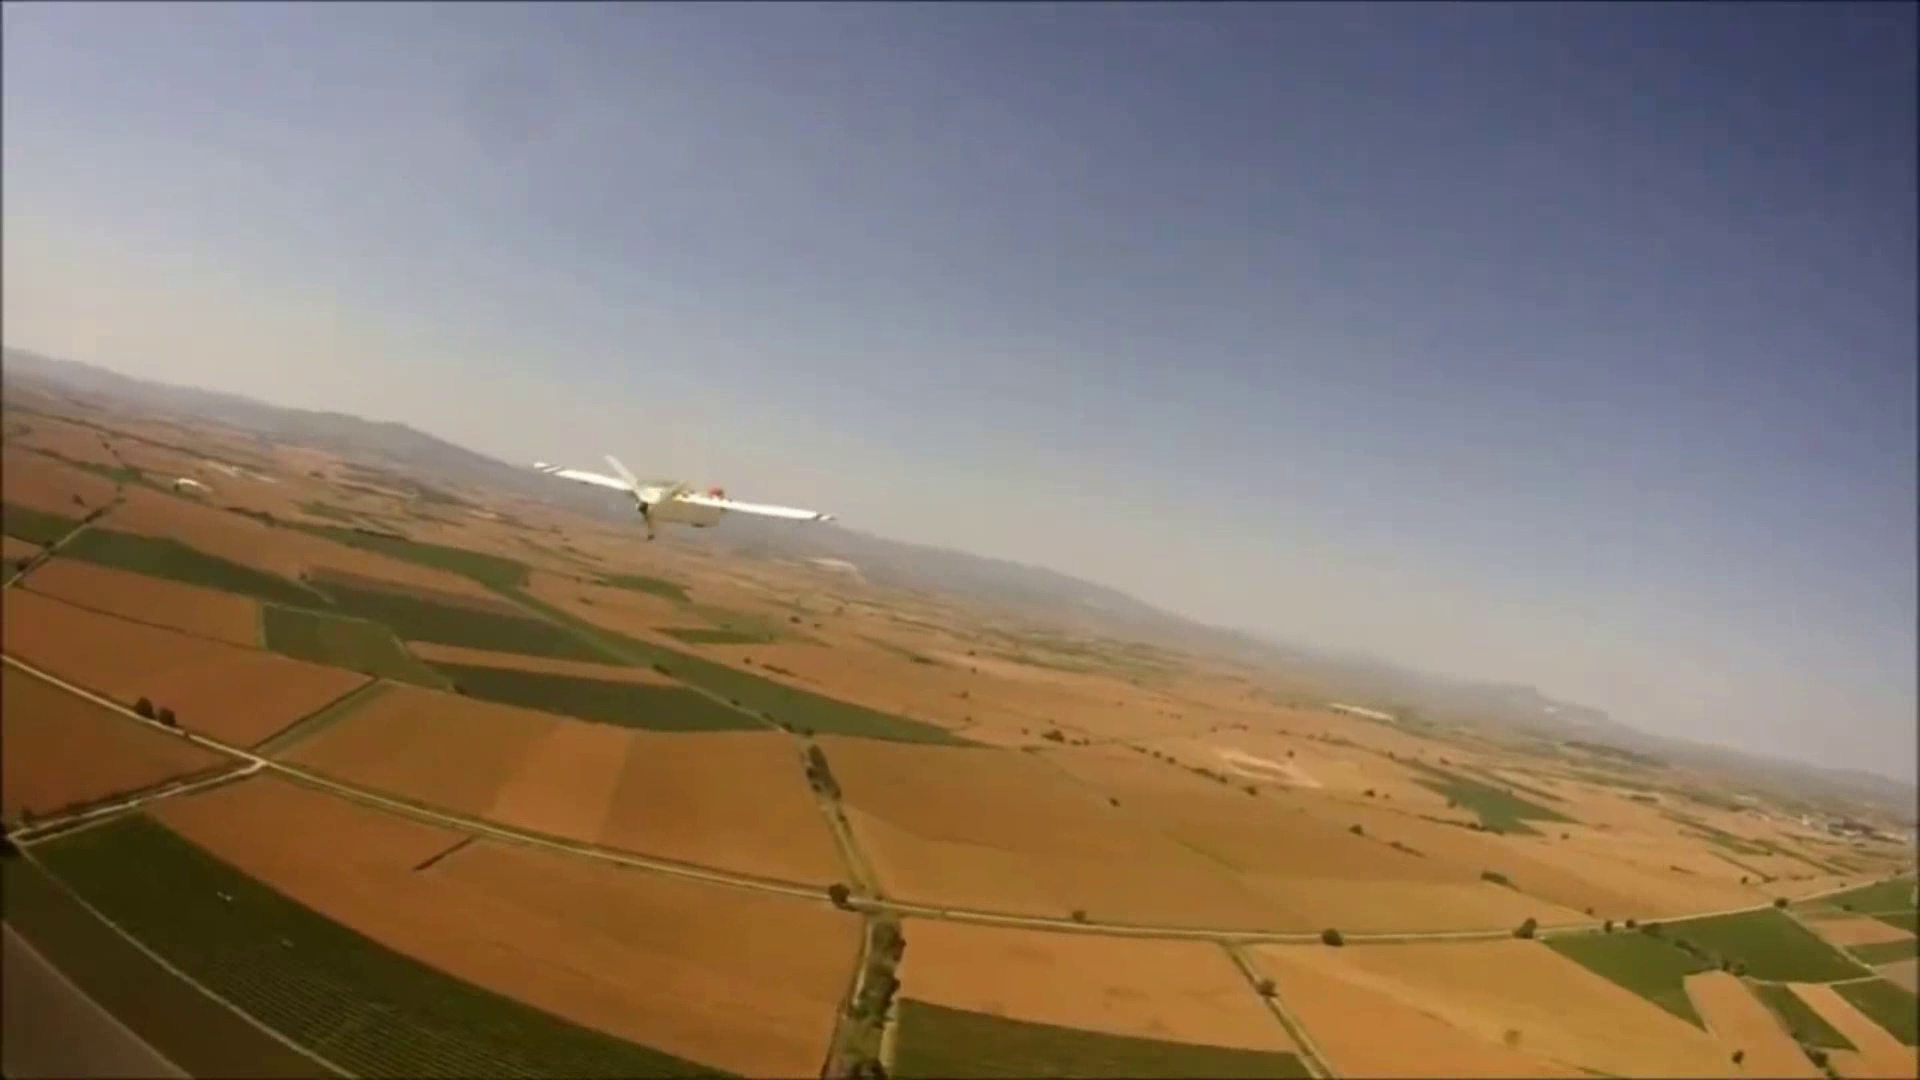airplane: (589, 454, 827, 535)
